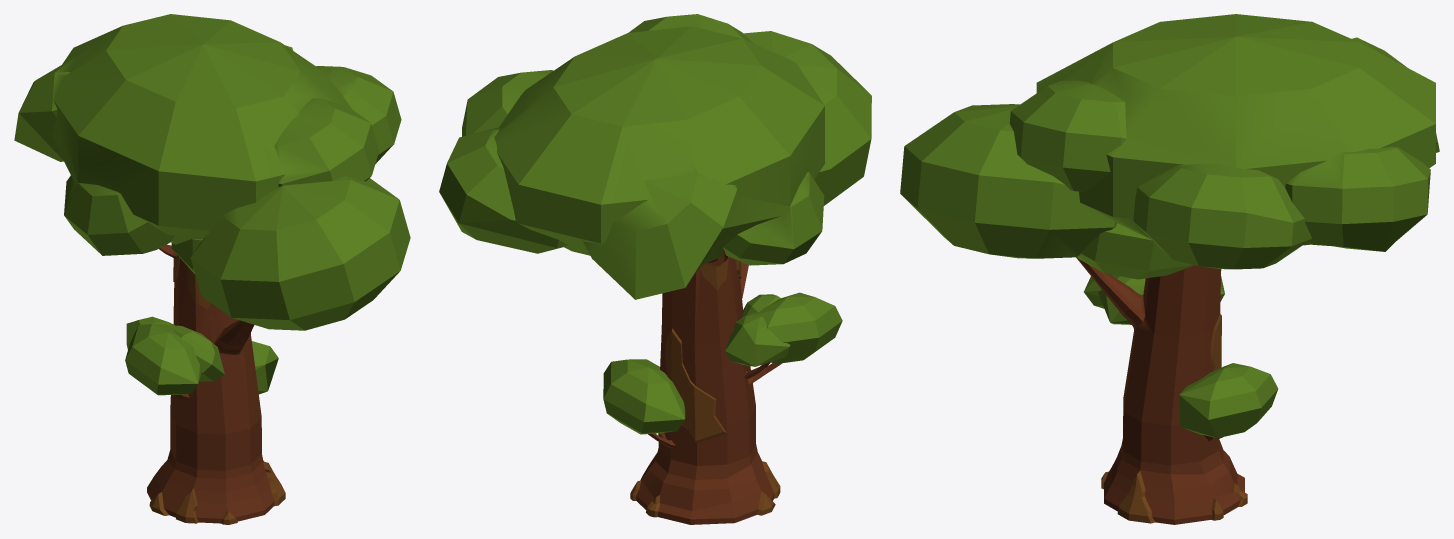
The model's file is Tree_A.fbx.
The picture shows the model from 3 angles, left to right: view 1: azimuth 30°, elevation 25°; view 2: azimuth 150°, elevation 25°; view 3: azimuth 270°, elevation 25°; orthographic projection. The views are drawn at different scales.
Visible parts, largest first — view 1: polySurface20; view 2: polySurface20; view 3: polySurface20.
Boxes of the visible parts, x1=… form: polySurface20: x1=14, y1=14, x2=410, y2=524; polySurface20: x1=439, y1=14, x2=871, y2=524; polySurface20: x1=900, y1=14, x2=1439, y2=524.
Size of the model in its own units: 163 by 211 by 221.
